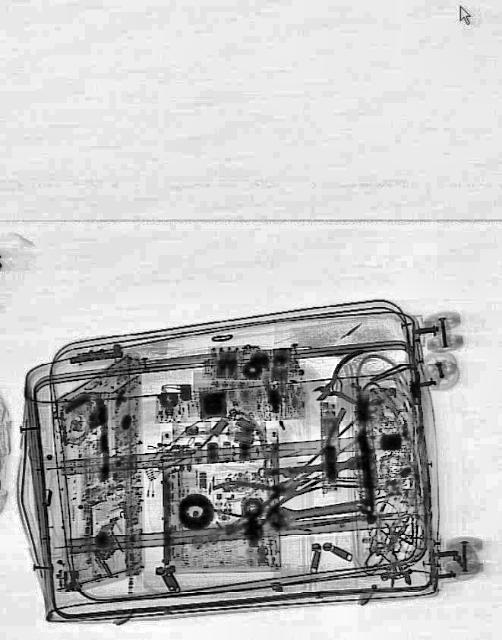Pliers: (210, 461, 310, 534), (305, 343, 385, 423)
Wrench: (268, 491, 368, 534), (258, 453, 360, 479)
